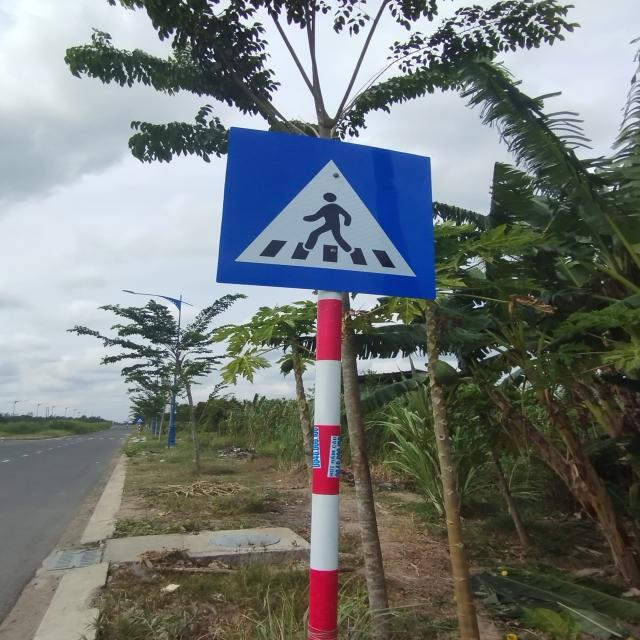Giao_Nhau_Duong_Uu_Tien: (216, 127, 434, 301)
